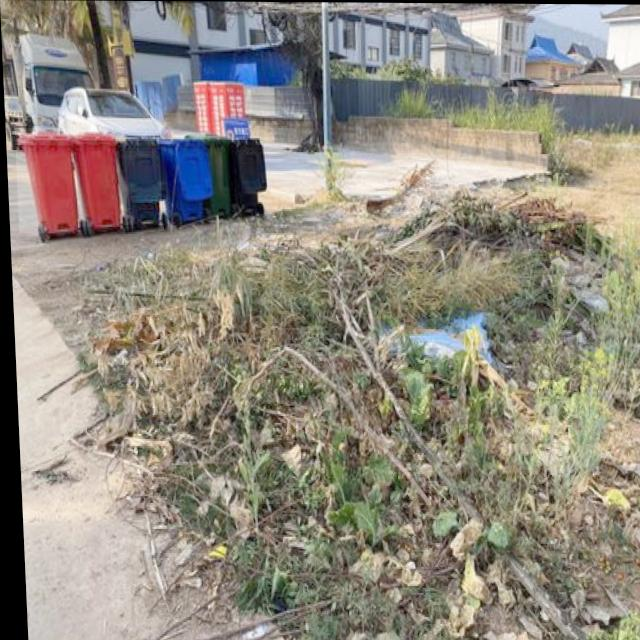garbage_bin: (13, 128, 72, 233), (111, 130, 164, 225), (69, 129, 120, 227), (158, 134, 209, 225), (210, 132, 265, 216)
